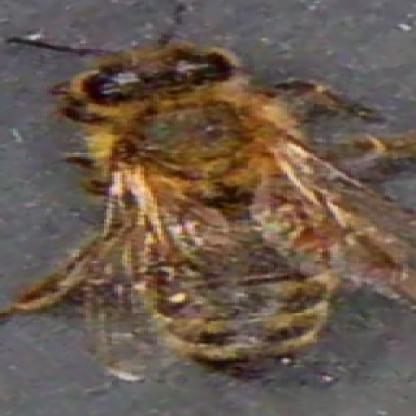bee: (46, 50, 351, 365)
